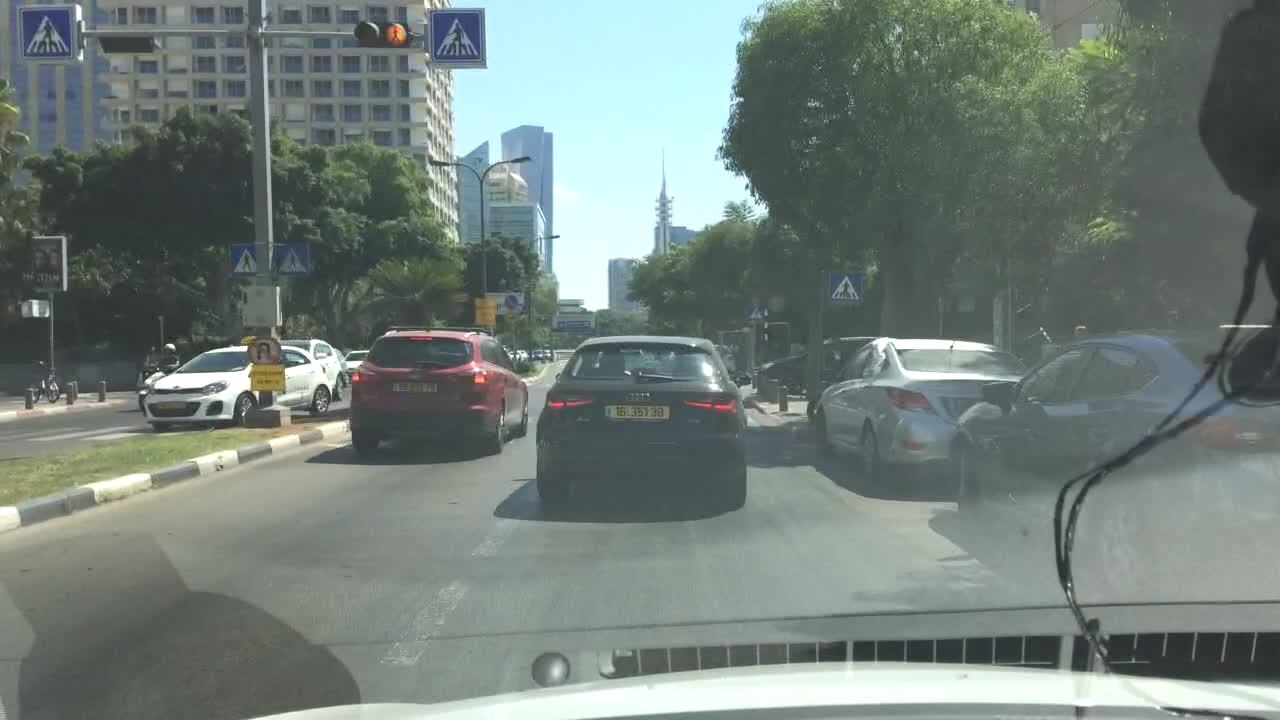Audi: (620, 387, 663, 404)
